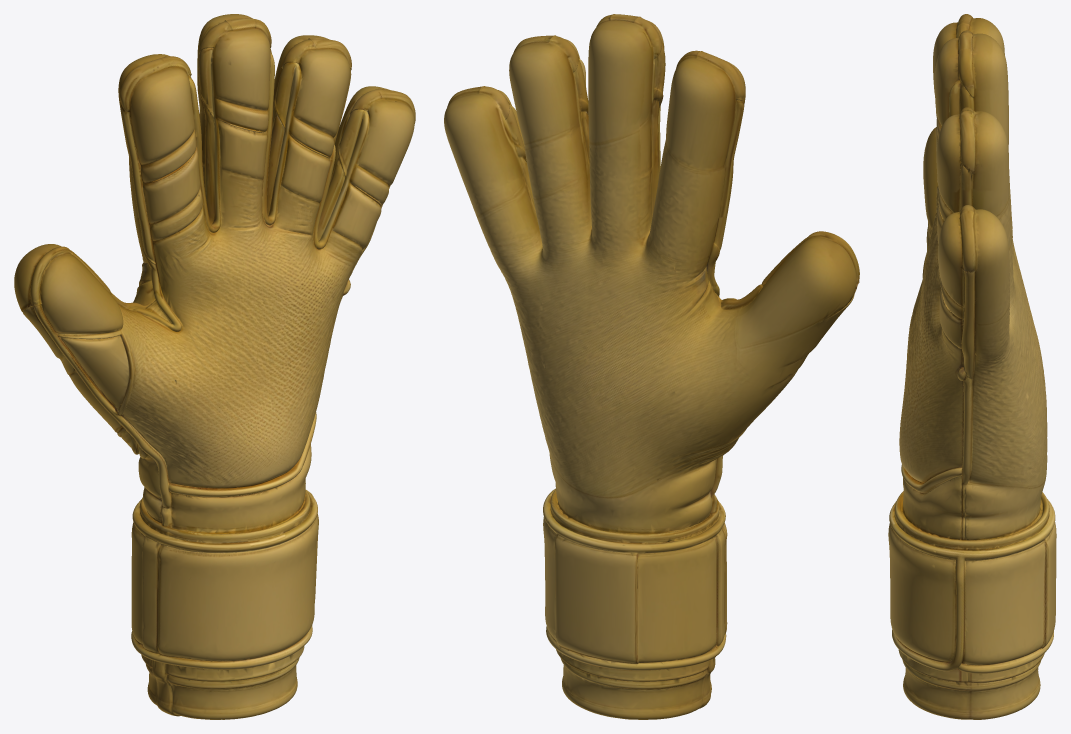
File: glove.glb
The picture shows the model from 3 angles, left to right: view 1: azimuth 30°, elevation 25°; view 2: azimuth 150°, elevation 25°; view 3: azimuth 270°, elevation 25°; orthographic projection. The views are drawn at different scales.
Visible parts, largest first — view 1: node_0; view 2: node_0; view 3: node_0.
Part boxes in pixels (left/top/right/bottom): node_0: left=14, top=14, right=415, bottom=719; node_0: left=444, top=14, right=859, bottom=719; node_0: left=888, top=14, right=1056, bottom=719.
Size of the model in its own units: 0.7337 by 1.18 by 0.272.
1 material, 1 textured.
